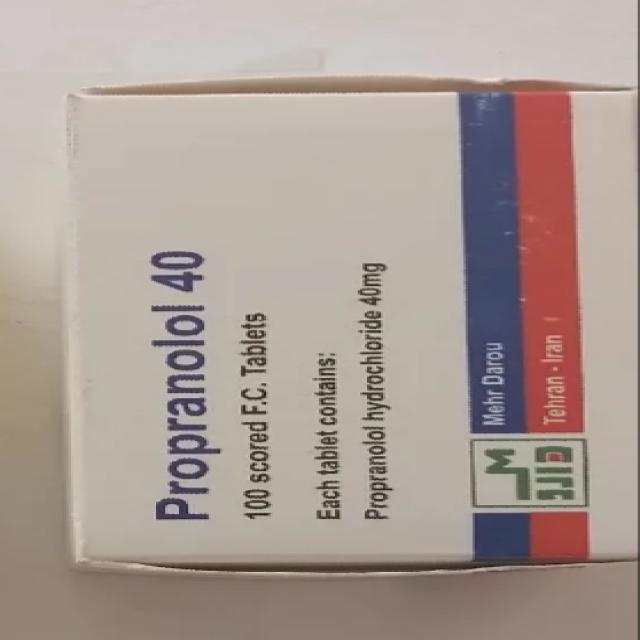drug-name: (134, 245, 233, 531)
